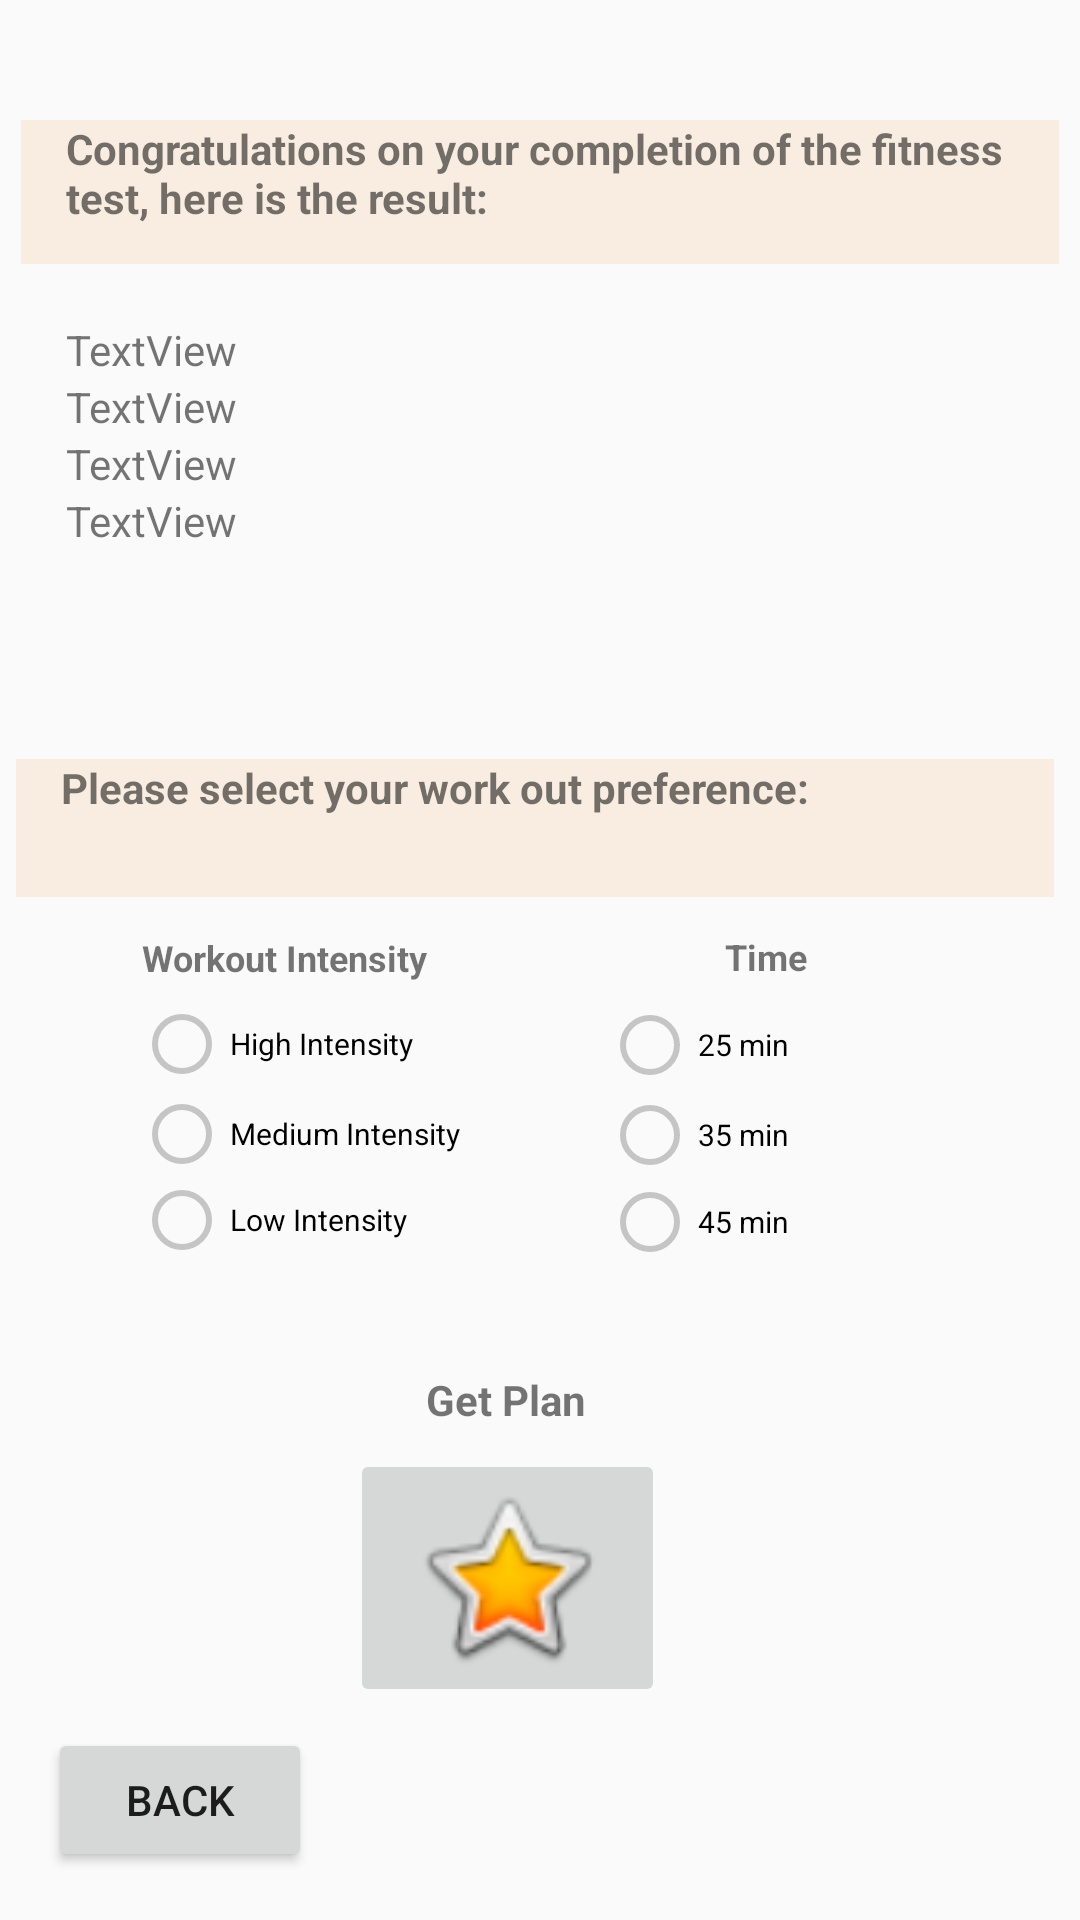

Named icons in this screenshot (1080*1920) and their centers, point (x, y):
star on: point (507, 1578)
